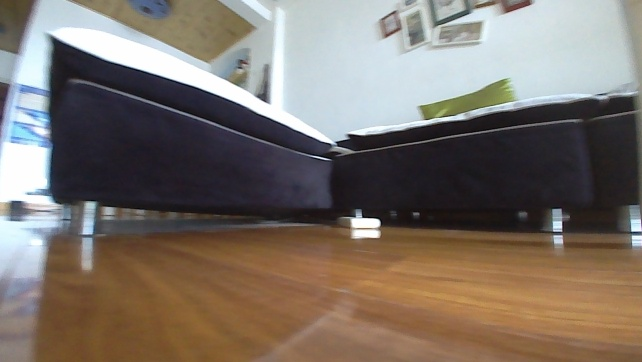sofa: (25, 22, 641, 241)
